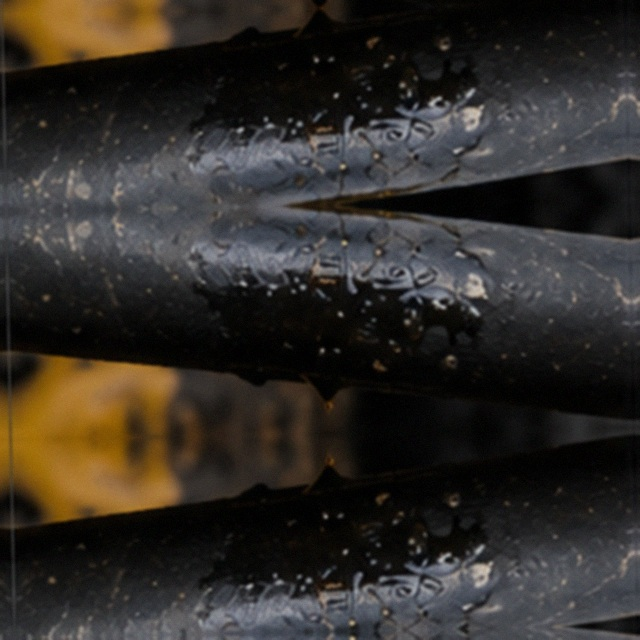hydraulic_oil_leak: (197, 245, 433, 479)
